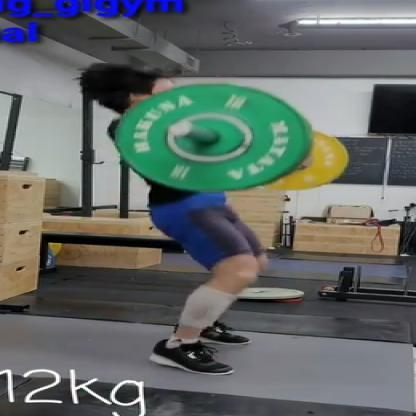barbell: (114, 81, 351, 195)
